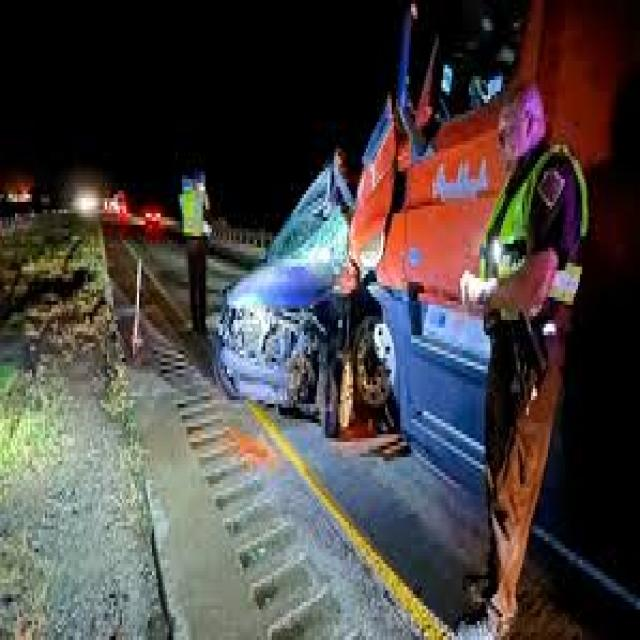accident: (228, 161, 459, 470)
